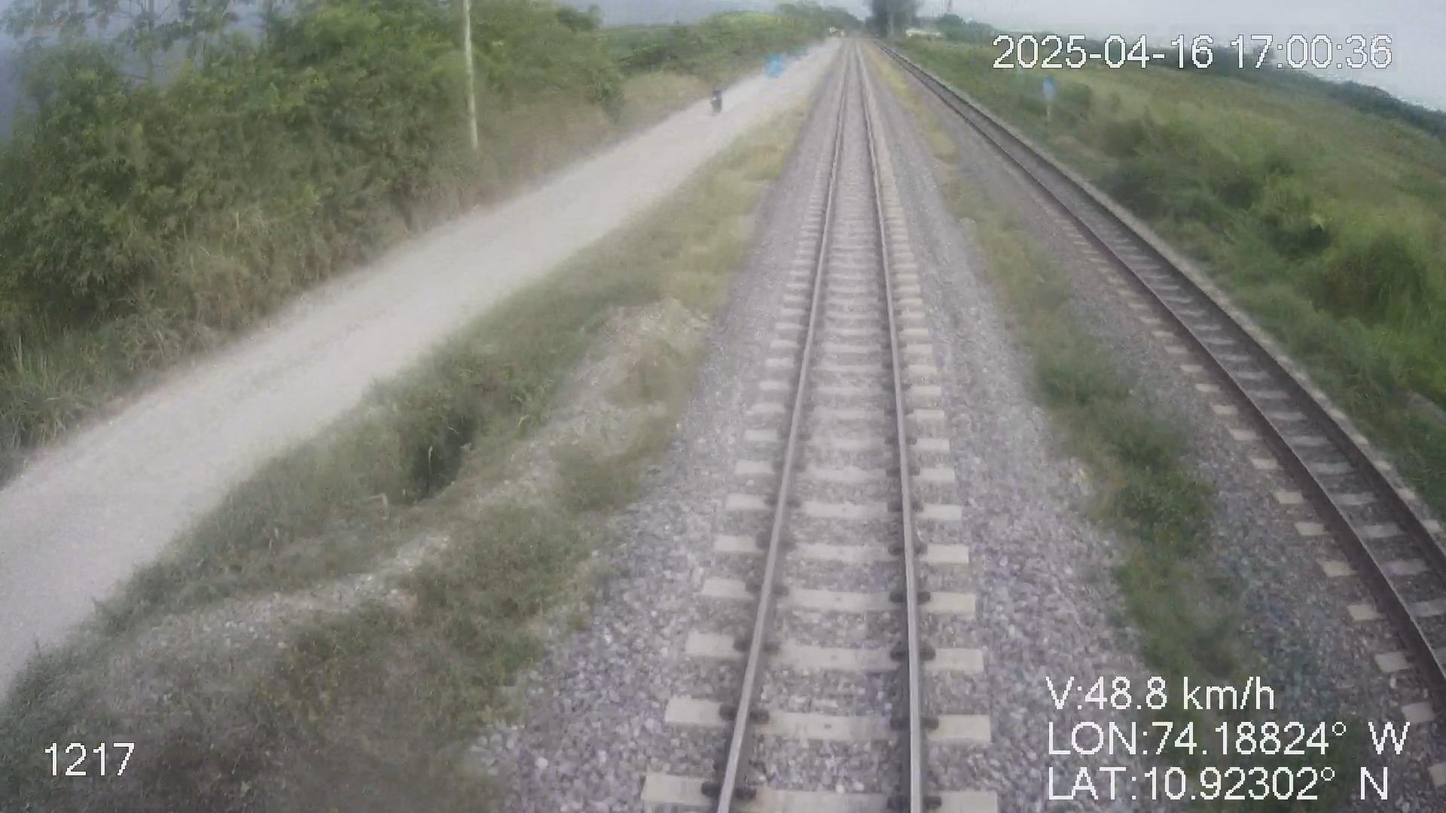Pasto: (0, 0, 818, 463), (895, 20, 1445, 525)
